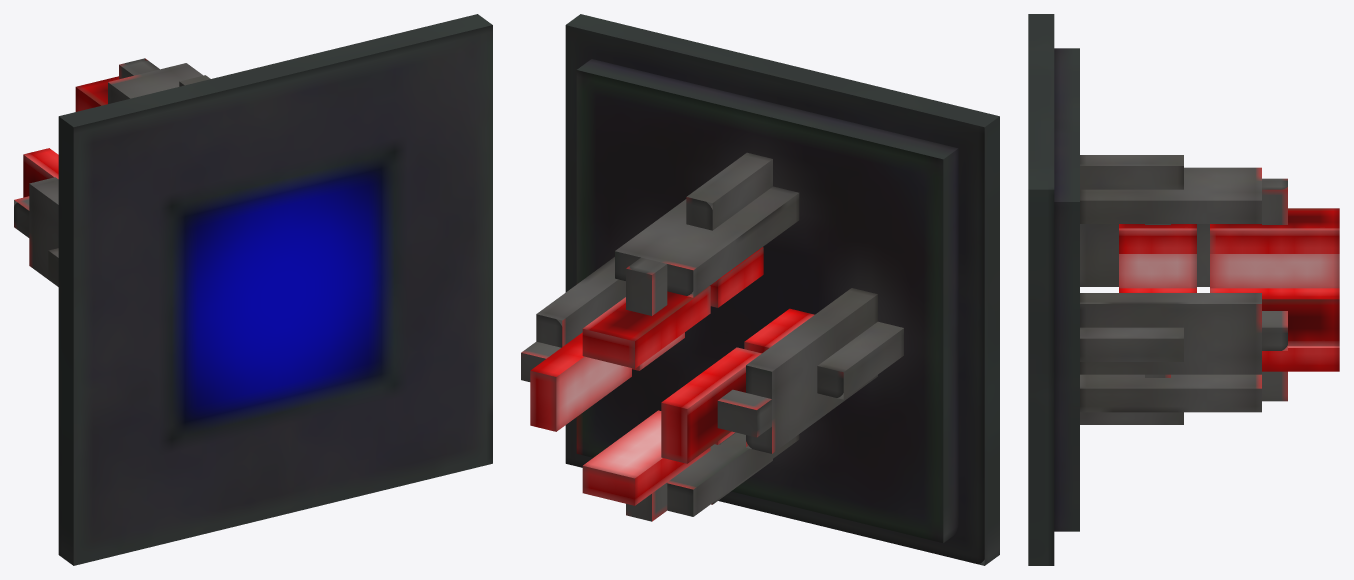
Rendered from reactor_injector.obj.
3 views of the same model, side by side, from view 1: azimuth 30°, elevation 25°; view 2: azimuth 150°, elevation 25°; view 3: azimuth 270°, elevation 25° (orthographic). The views are drawn at different scales.
Parts seen in each view (by area): view 1: base1, support_a, emitter_b, support_c; view 2: base2, base1, support_a, emitter_b, support_b, support_c, emitter_a; view 3: support_a, base1, emitter_b, base2, support_b, emitter_a, support_c.
Part boxes in pixels (x1,y1,x2,y2): base1: [58, 14, 492, 565]; support_a: [29, 63, 203, 286]; emitter_b: [23, 76, 118, 197]; support_c: [14, 58, 159, 237]; base2: [576, 59, 958, 543]; base1: [565, 14, 999, 565]; support_a: [536, 186, 877, 516]; emitter_b: [530, 286, 761, 505]; support_b: [686, 152, 903, 504]; support_c: [521, 257, 771, 521]; emitter_a: [632, 247, 814, 444]; support_a: [1080, 167, 1261, 412]; base1: [1028, 14, 1054, 565]; emitter_b: [1210, 208, 1339, 371]; base2: [1054, 48, 1079, 531]; support_b: [1080, 155, 1183, 424]; emitter_a: [1119, 224, 1196, 292]; support_c: [1262, 178, 1287, 401].
Bounding box in the file's own units: 1 × 1 × 0.75.
1 material, 1 textured.
